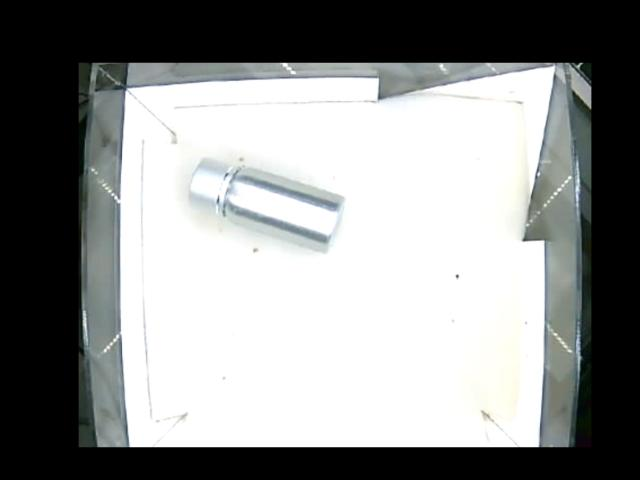Bottle: (188, 155, 343, 255)
